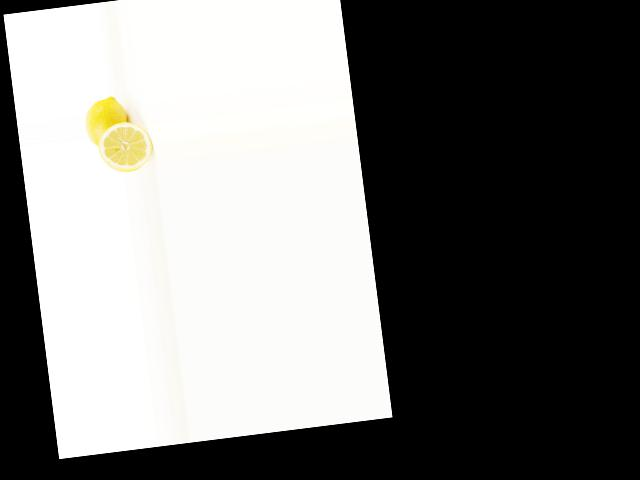lemon: (82, 92, 135, 149)
